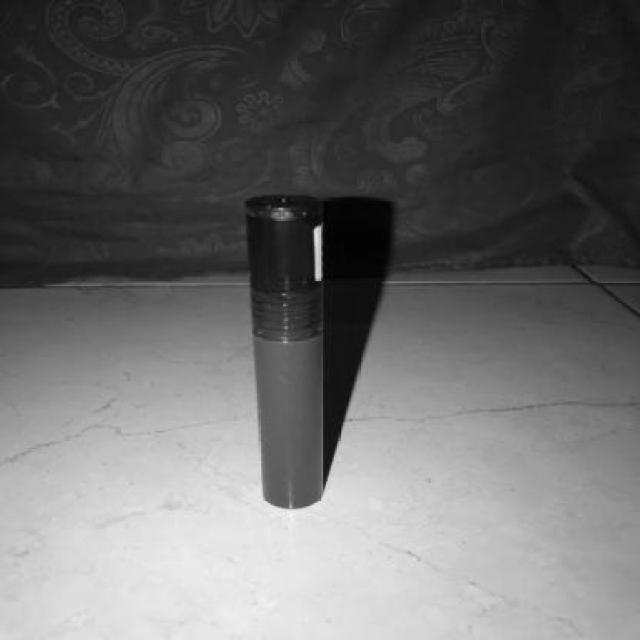lipstick: (171, 152, 423, 542)
